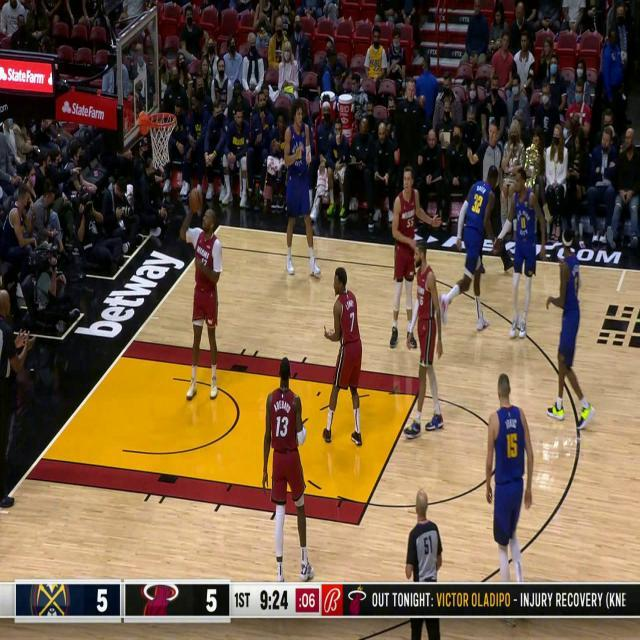rim: (188, 188, 205, 214)
